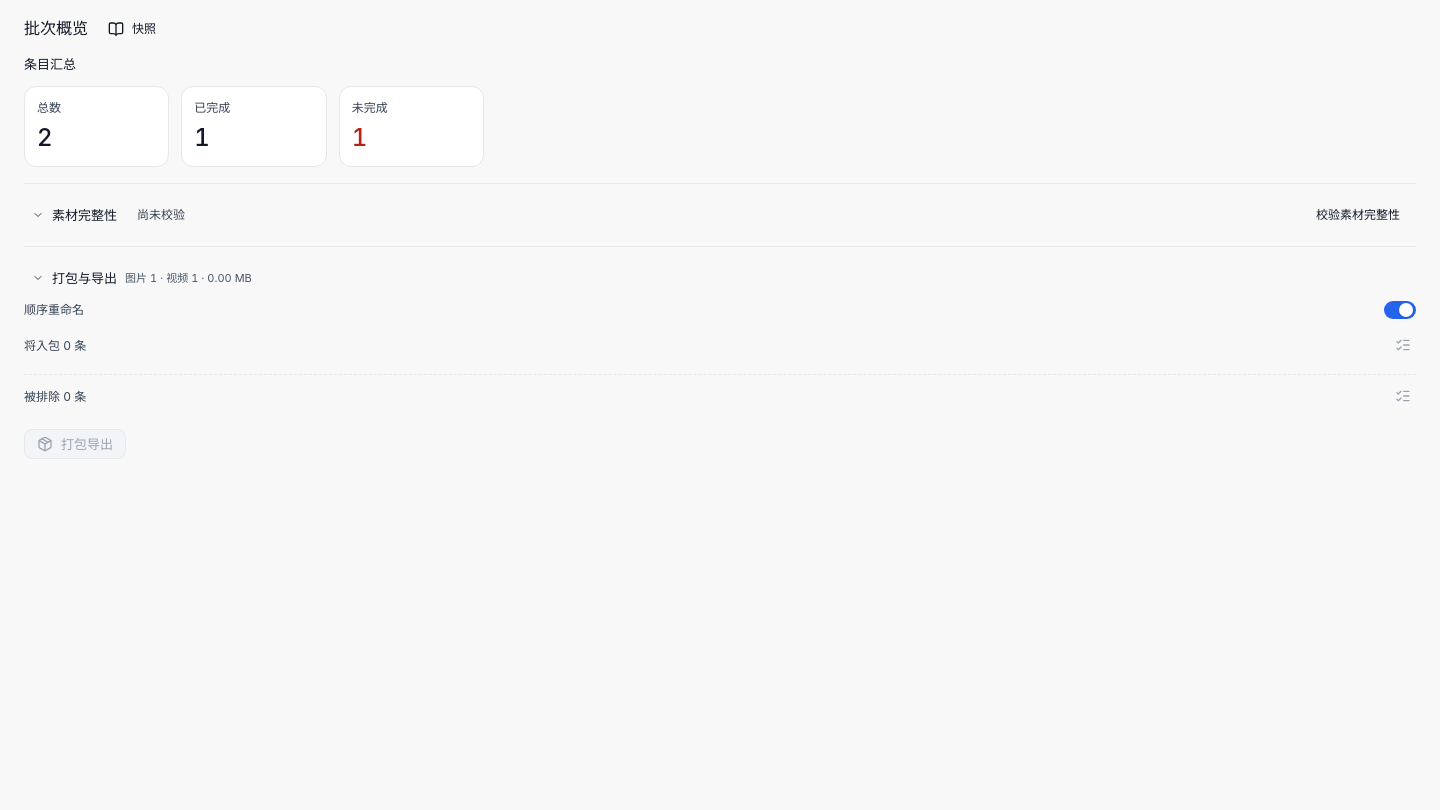
Test case: 批次概览 › 变更清单排除失败保留选择，成功后退出并同步导出清单
The image size is (1440, 810).
Click the button "校验素材完整性": (1358,215) [1308, 202, 1408, 228]
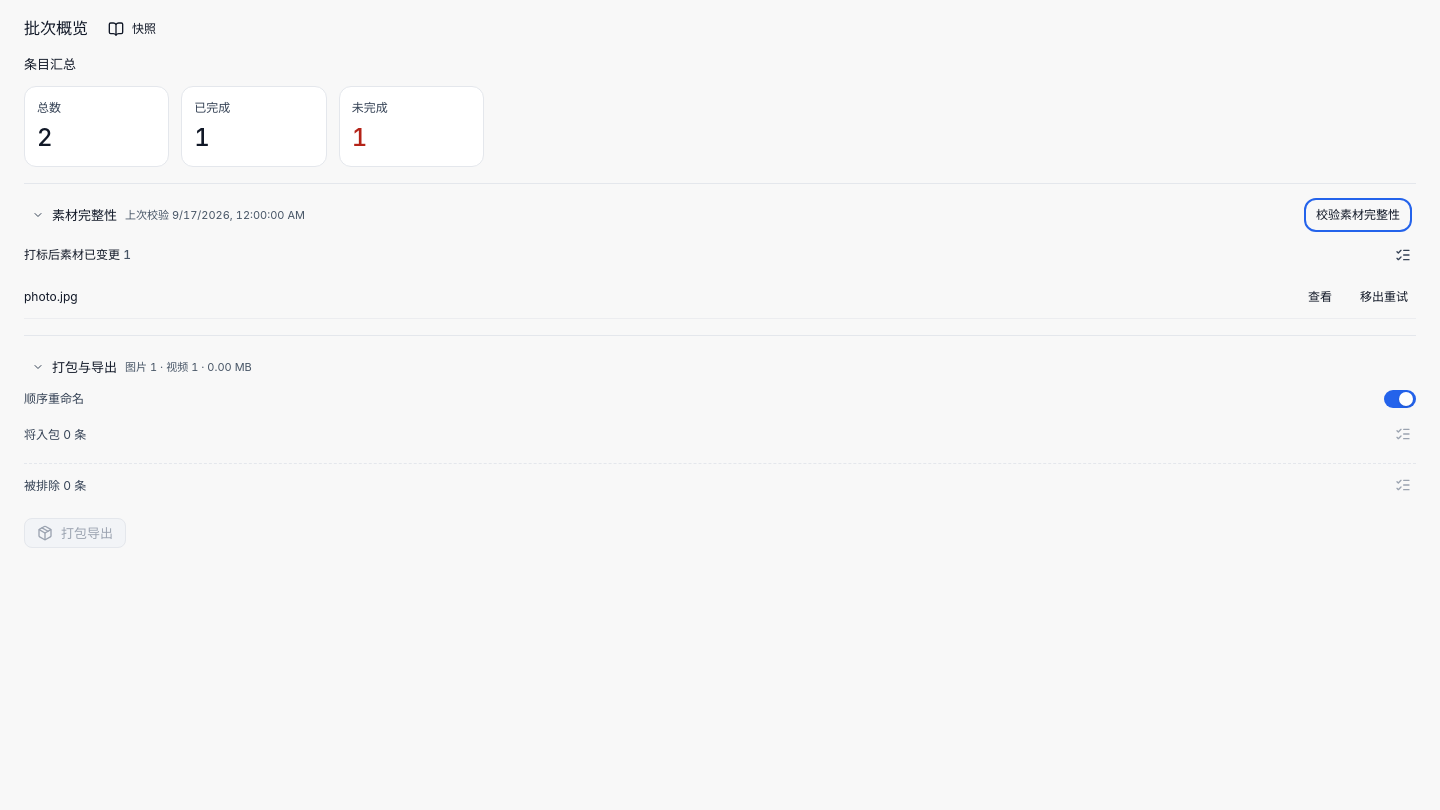
Click the button named "选择" in the row of "打标后素材已变更": (1403,255) [1390, 242, 1416, 268]
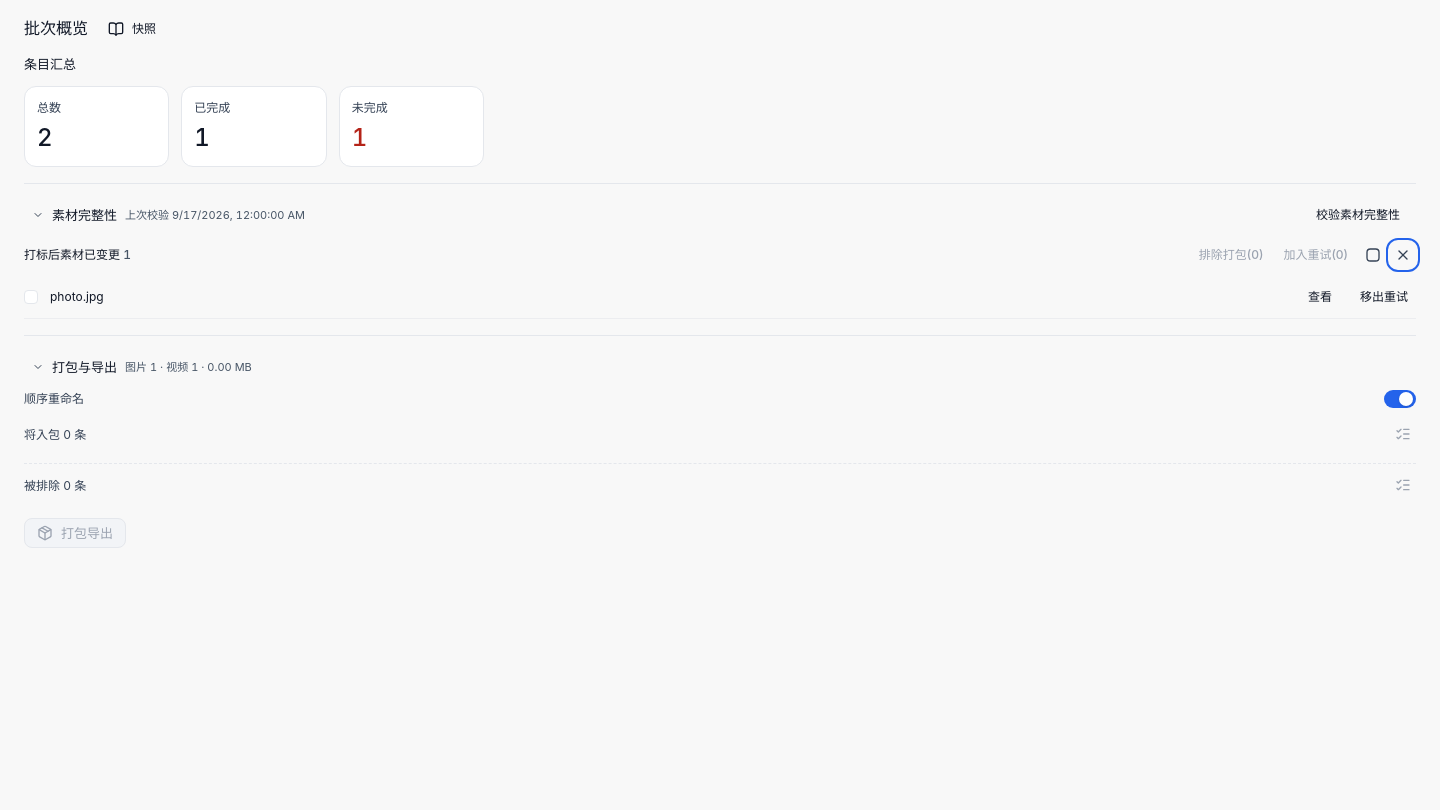
Now the button "排除打包(0)" is disabled, box [1191, 242, 1271, 268]
Click the button named "全选": (1373,255) [1360, 242, 1386, 268]
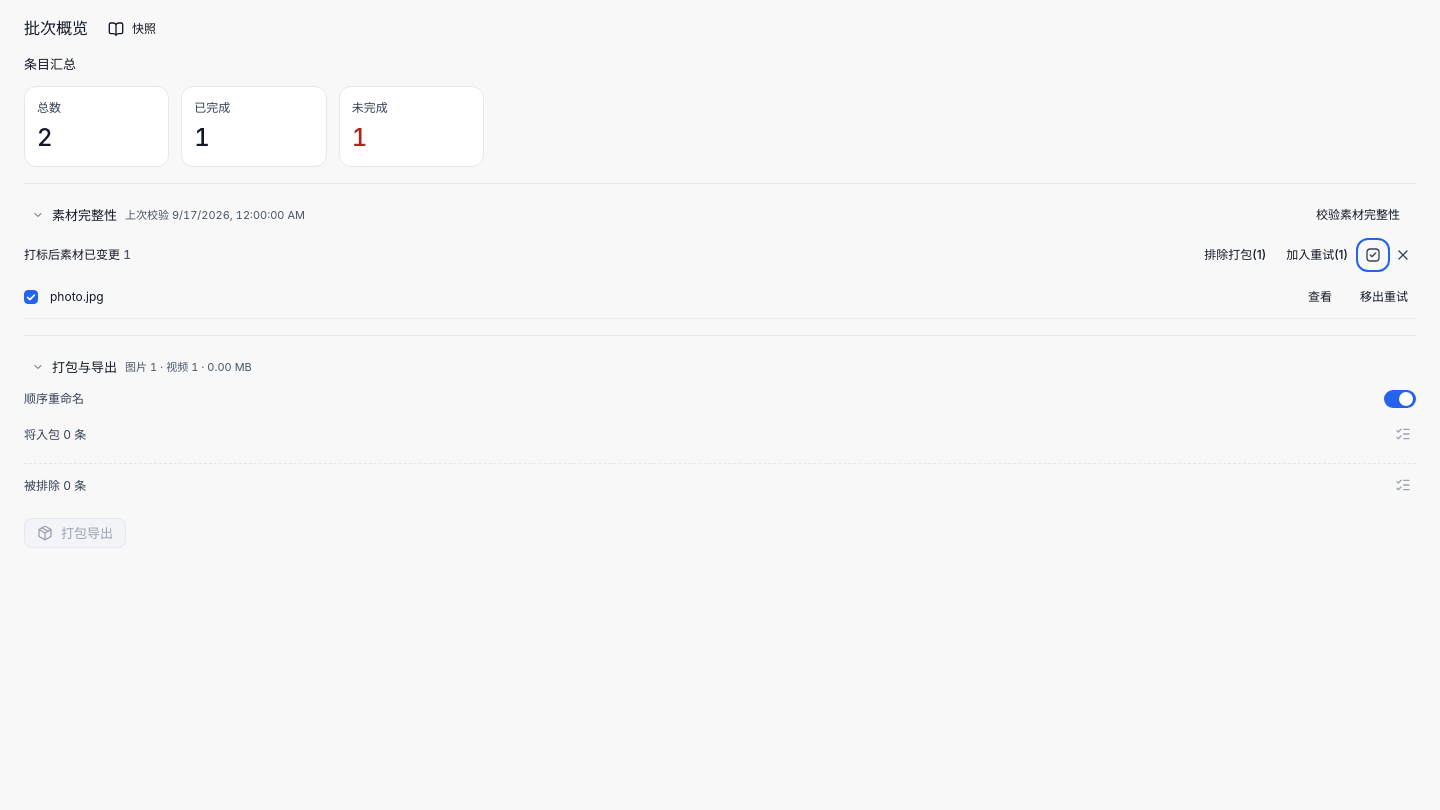
Click the button "排除打包(1)": (1235,255) [1196, 242, 1274, 268]
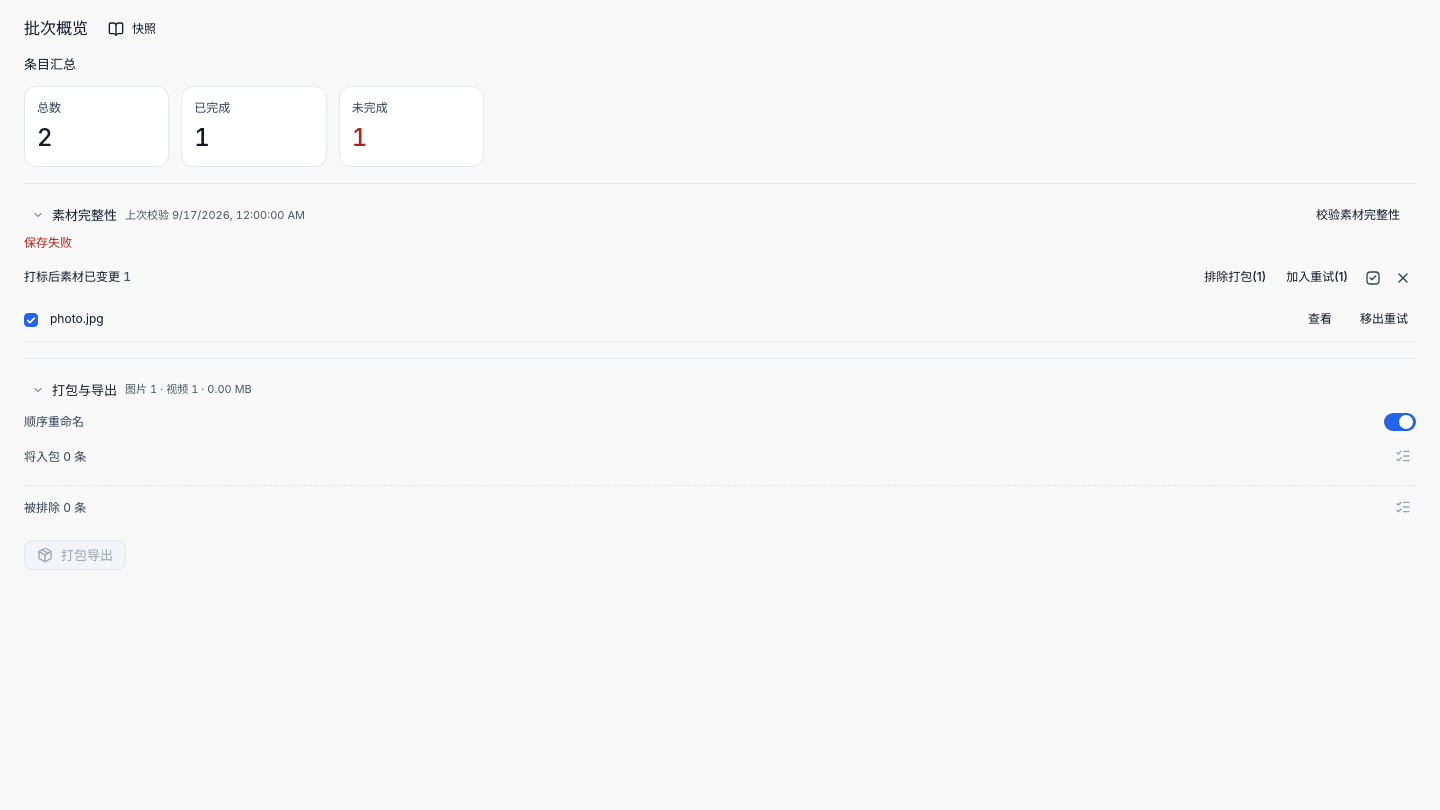
Now the checkbox named "选择变更素材 photo.jpg" is checked, box [24, 313, 38, 327]
Now the message reads "保存失败", box [24, 235, 72, 250]
Click the button "排除打包(1)": (1235,278) [1196, 265, 1274, 291]
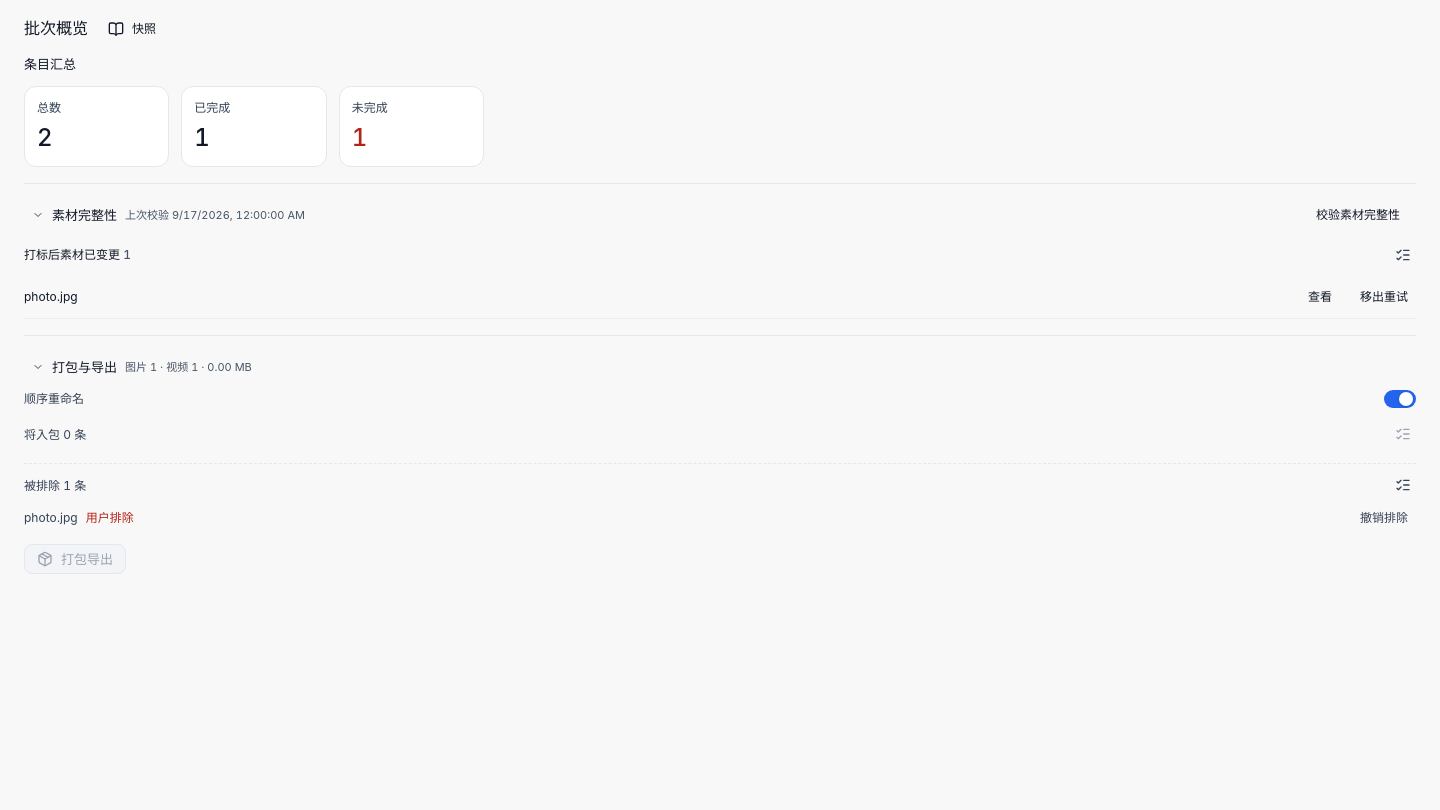
Now the button named "选择" in the row of "打标后素材已变更" is enabled, box [1390, 242, 1416, 268]
Now the text "用户排除" is shown, box [86, 509, 134, 528]
Now the checkbox is gone
